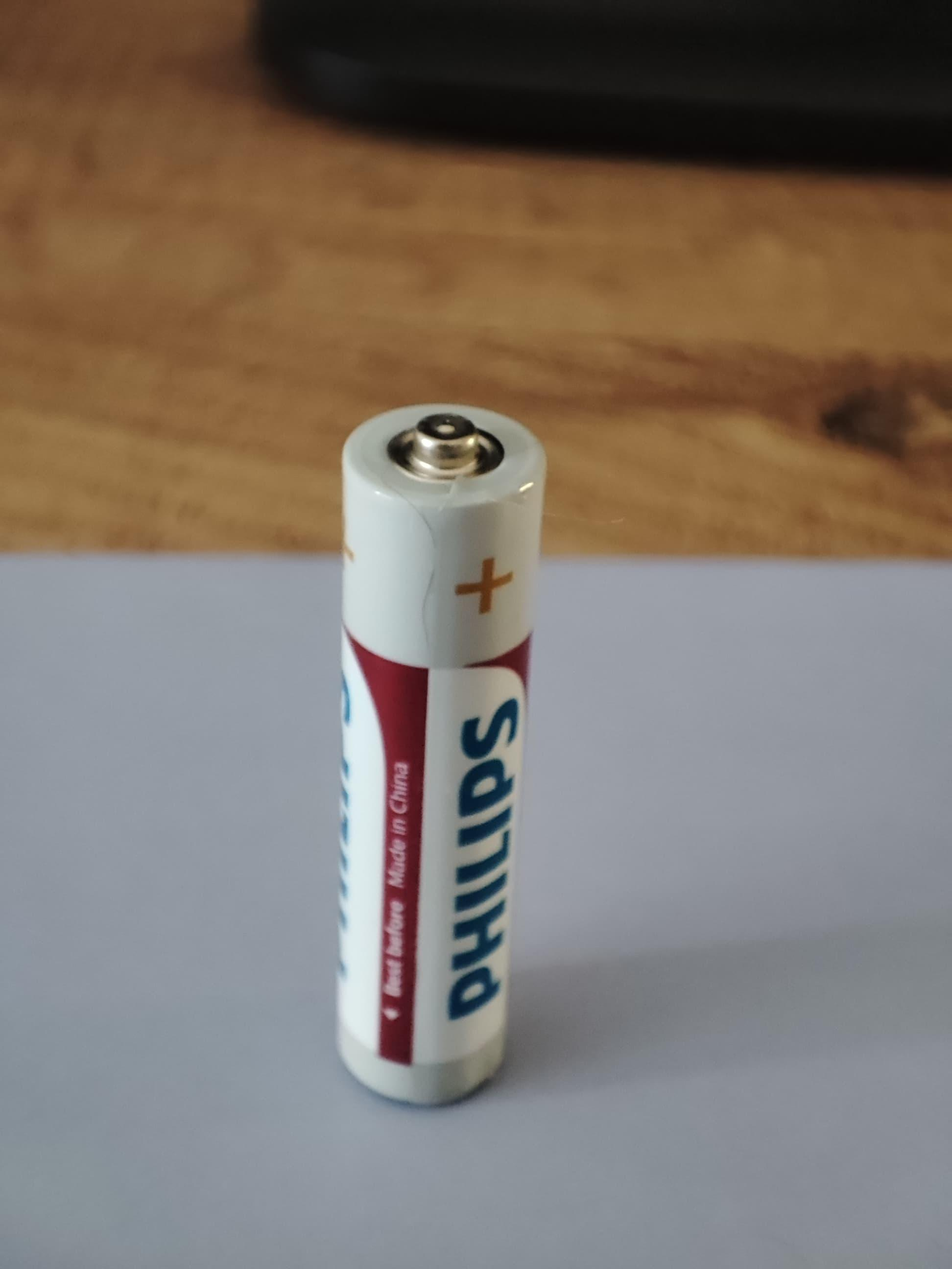AAA: (334, 402, 547, 1107)
